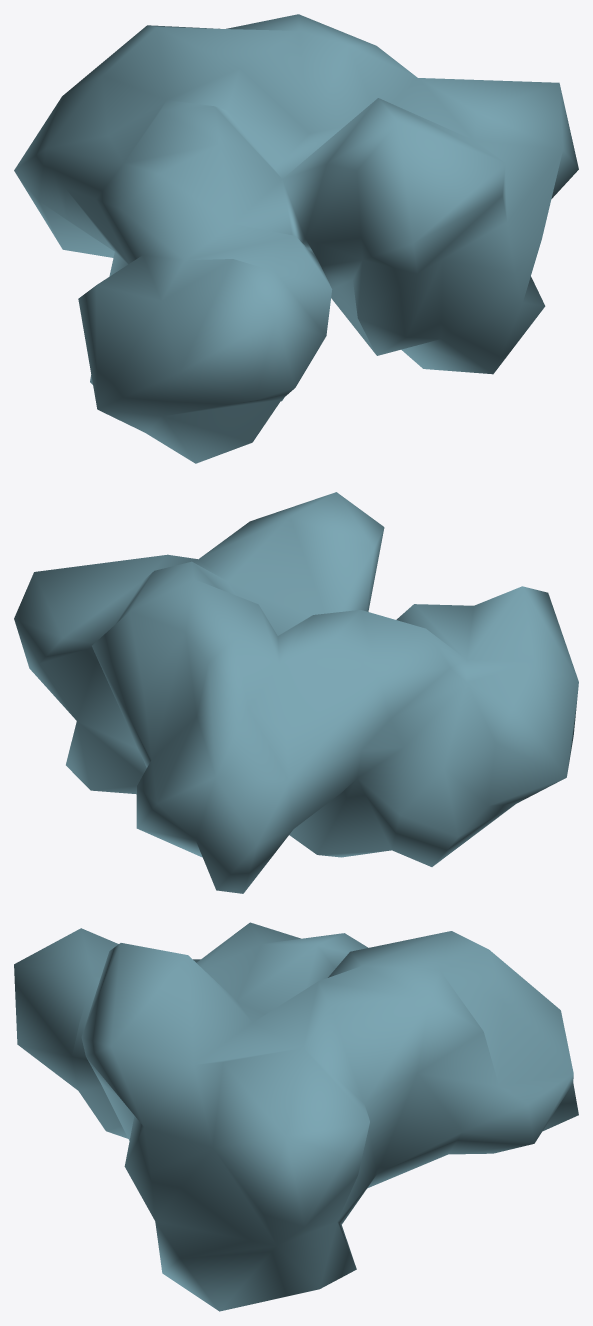
Rendered from MiinBloodPlasma_HSA_ArichidonicAcid_1gnj_0_1_0.dae.
3 views of the same model, one above another, from view 1: azimuth 30°, elevation 25°; view 2: azimuth 150°, elevation 25°; view 3: azimuth 270°, elevation 25° (orthographic). The views are drawn at different scales.
Parts seen in each view (by area): view 1: CoarseMS_1gnj; view 2: CoarseMS_1gnj; view 3: CoarseMS_1gnj.
Part boxes in pixels (x1,y1,x2,y2): CoarseMS_1gnj: (14,14,578,463); CoarseMS_1gnj: (14,492,578,893); CoarseMS_1gnj: (14,922,578,1311).
Size of the model in its own units: 91.15 by 52.43 by 89.01.
